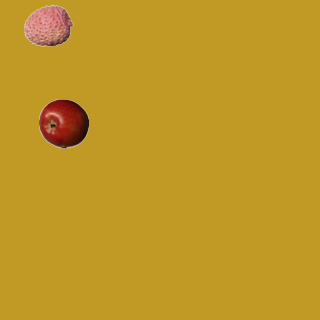Apple Braeburn: (38, 98, 88, 148)
Lychee: (23, 0, 73, 50)
